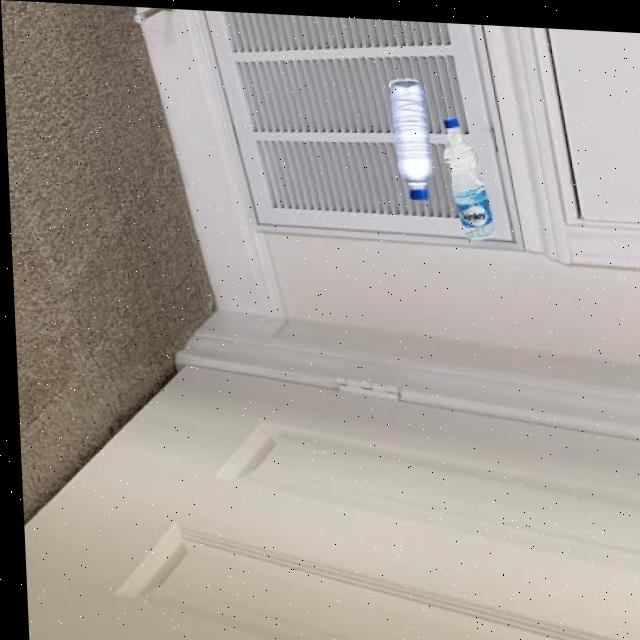bottle: (440, 110, 495, 235), (385, 72, 434, 196)
